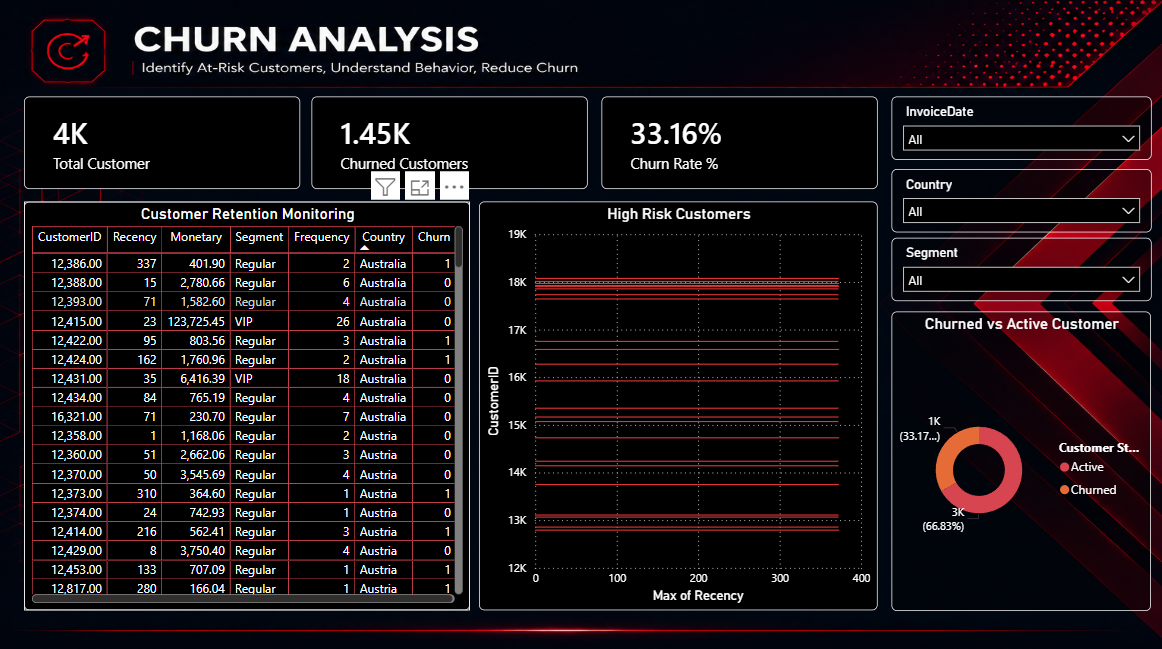

This screenshot's page, from the dashboard's own definition file:
{"tool":"powerbi","page":{"name":"Churn Analysis","canvas":[1280,720],"ordinal":3},"visuals":[{"type":"cardVisual","fields":{"Data":["ecommerce rfm_customer_data.Total Customer"]},"box":[27.4,107,303.3,101.5],"z":0},{"type":"cardVisual","fields":{"Data":["ecommerce rfm_customer_data.Churned Customers"]},"box":[343.1,107,303.3,101.5],"z":1000},{"type":"cardVisual","fields":{"Data":["ecommerce rfm_customer_data.Churn Rate %"]},"box":[661.4,107,303.3,101.5],"z":2000},{"type":"donutChart","title":"Churned vs Active Customer","fields":{"Category":["ecommerce rfm_customer_data.Customer Status"],"Y":["ecommerce rfm_customer_data.Customer Count"]},"box":[980,342.5,285,328.8],"z":3000},{"type":"clusteredBarChart","title":"High Risk Customers","fields":{"Category":["ecommerce rfm_customer_data.CustomerID"],"Y":["Max(ecommerce rfm_customer_data.Recency)"]},"box":[527.5,222.5,437.5,448.8],"z":4000},{"type":"tableEx","title":"Customer Retention Monitoring","fields":{"Values":["ecommerce rfm_customer_data.CustomerID","ecommerce rfm_customer_data.Recency","ecommerce rfm_customer_data.Monetary","ecommerce rfm_customer_data.Segment","ecommerce rfm_customer_data.Frequency","ecommerce orders.Country","ecommerce rfm_customer_data.Churn"]},"box":[27.4,222.3,489.9,448.7],"z":5000},{"type":"slicer","fields":{"Values":["ecommerce orders.Country"]},"box":[979.8,186.6,285.4,70],"z":6000},{"type":"slicer","fields":{"Values":["ecommerce rfm_customer_data.Segment"]},"box":[979.8,262.1,285.4,70],"z":7000},{"type":"slicer","fields":{"Values":["ecommerce orders.InvoiceDate"]},"box":[979.8,107,285.4,70],"z":8000}]}

Visuals, with their boxes in screenshot pixels (x1, y1, x2, y2), scaled from the page's 1280x720 canvas onto the 1162x649 screenshot:
cardVisual - ecommerce rfm_customer_data.Total Customer: <box>25,96,300,188</box>
cardVisual - ecommerce rfm_customer_data.Churned Customers: <box>311,96,587,188</box>
cardVisual - ecommerce rfm_customer_data.Churn Rate %: <box>600,96,876,188</box>
"Churned vs Active Customer" donutChart: <box>890,309,1148,605</box>
"High Risk Customers" clusteredBarChart: <box>479,201,876,605</box>
"Customer Retention Monitoring" tableEx: <box>25,200,470,605</box>
slicer - ecommerce orders.Country: <box>889,168,1149,231</box>
slicer - ecommerce rfm_customer_data.Segment: <box>889,236,1149,299</box>
slicer - ecommerce orders.InvoiceDate: <box>889,96,1149,160</box>
